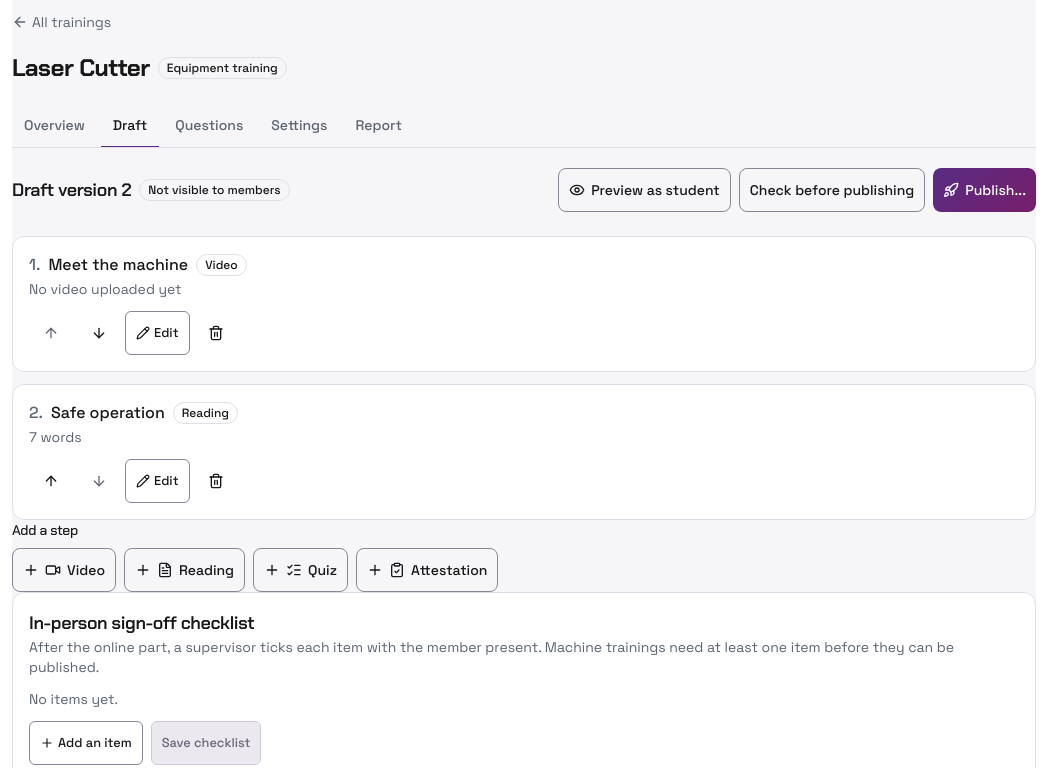
Test: DraftEditor publish check › puts each problem under the step it is about and lists the rest at the top
The width and height of the screenshot is (1048, 768).
Expected: the heading "Laser Cutter" is shown, [12,52,150,84]
Expected: the heading "Draft version 2" is shown, [12,176,131,204]
Click the button "Check before publishing": (832, 190) [739,168,925,212]
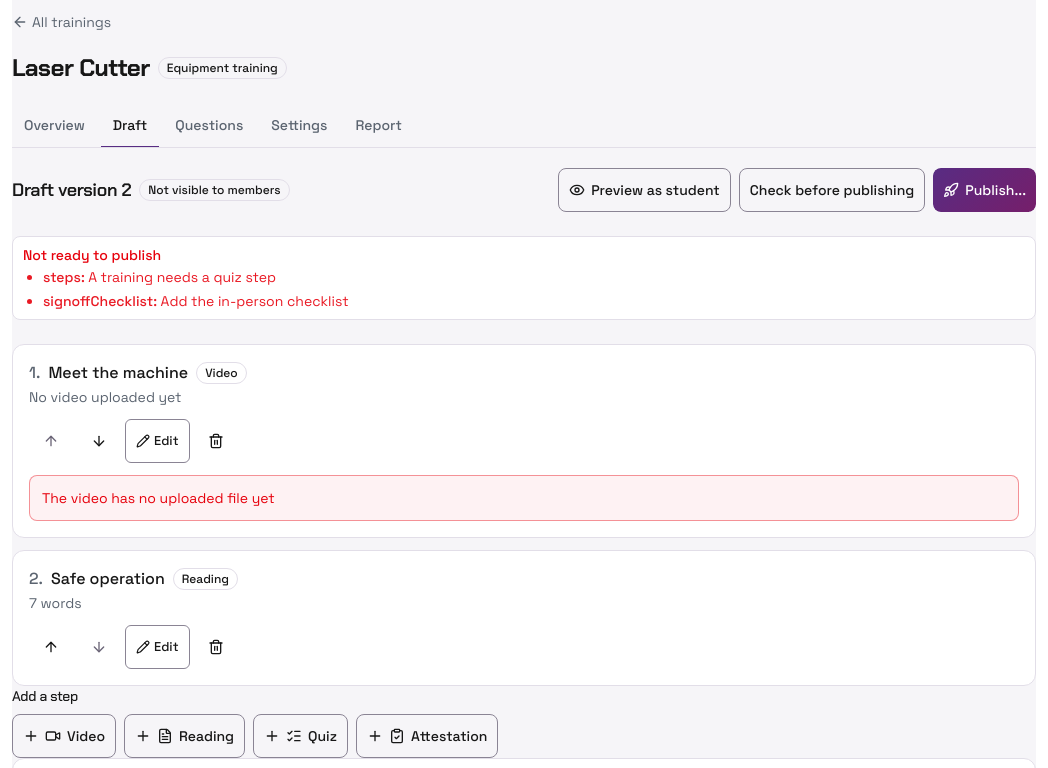
Expected: the list item "The video has no uploaded file yet" is shown, [42,489,275,507]
Expected: the text "Not ready to publish" is shown, [23,246,161,264]
Expected: the list item "steps: A training needs a quiz step" is shown, [43,268,276,286]
